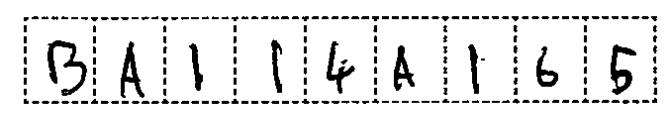1: (176, 37, 219, 96), (259, 32, 296, 96), (456, 39, 491, 96)
4: (316, 38, 358, 97)
5: (600, 41, 642, 98)
6: (527, 40, 568, 92)
A: (114, 37, 151, 102), (387, 42, 422, 93)
B: (39, 34, 90, 99)
